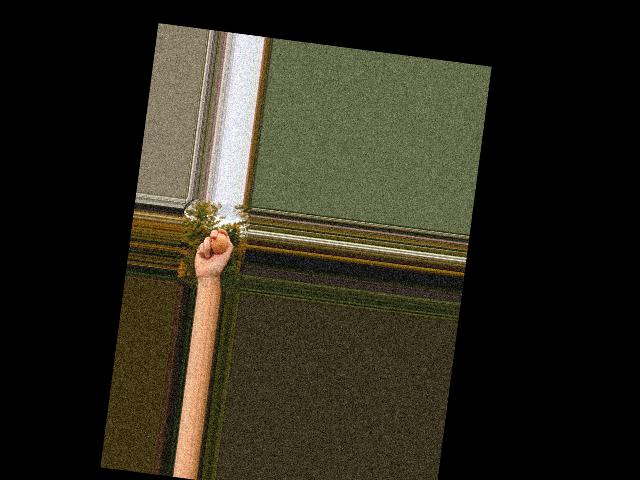egg: (209, 232, 228, 254)
